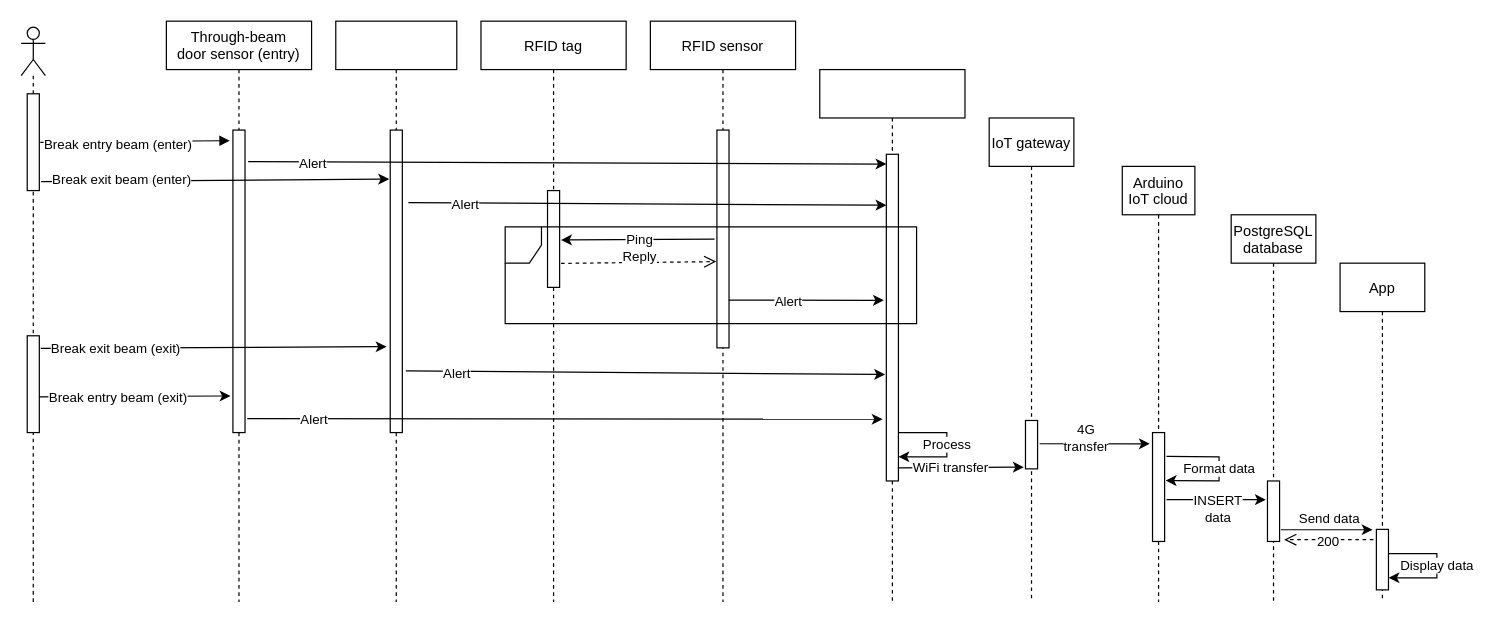
The diagram is 1494 pixels wide and 623 high, and some of its shapes have lost their labels. The box of each missing label's shape, as (x1, y1, x2, y2) in pixels:
Arduino UNO: (819, 68, 965, 602)
loop: (504, 226, 917, 324)
Through-beam door sensor (exit): (335, 20, 457, 602)
